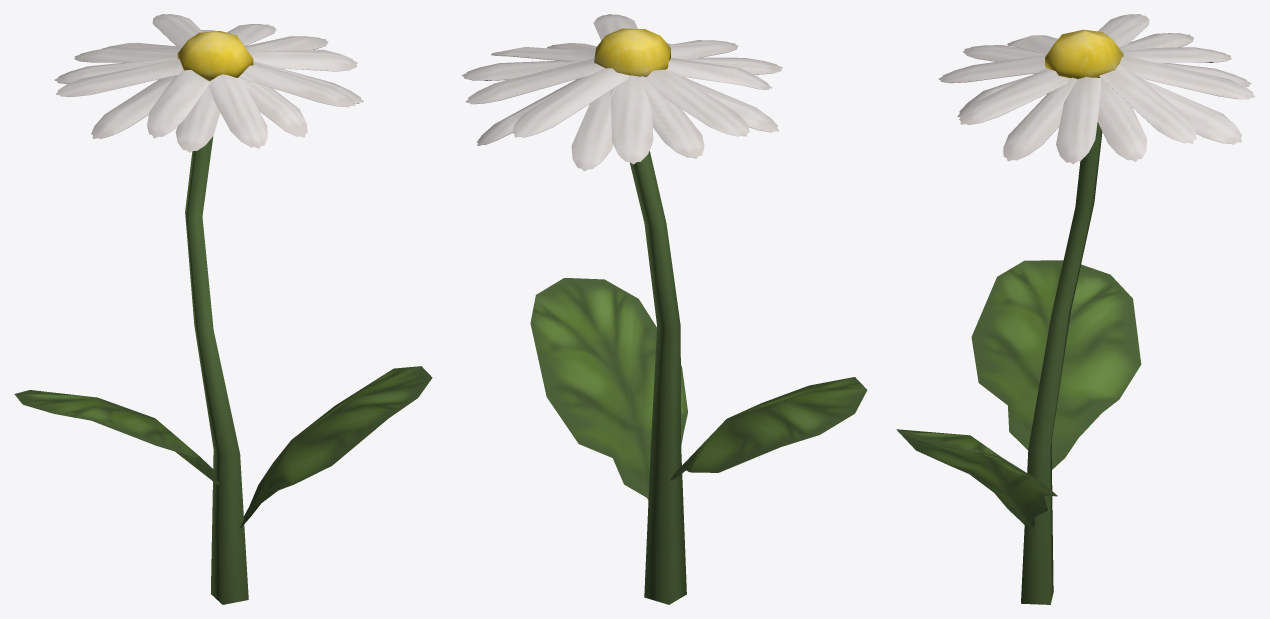
File: WildFlower_Leucanthemum.fbx
3 renders of one model, left to right at view 1: azimuth 30°, elevation 25°; view 2: azimuth 150°, elevation 25°; view 3: azimuth 270°, elevation 25°, orthographic. The views are drawn at different scales.
Visible parts, largest first — view 1: WildFlower_Leucanthemum; view 2: WildFlower_Leucanthemum; view 3: WildFlower_Leucanthemum.
Part boxes in pixels (bbox=[...]): WildFlower_Leucanthemum: bbox=[14, 14, 432, 604]; WildFlower_Leucanthemum: bbox=[461, 14, 867, 604]; WildFlower_Leucanthemum: bbox=[896, 14, 1255, 604].
Size of the model in its own units: 11.21 by 16.72 by 9.55.
